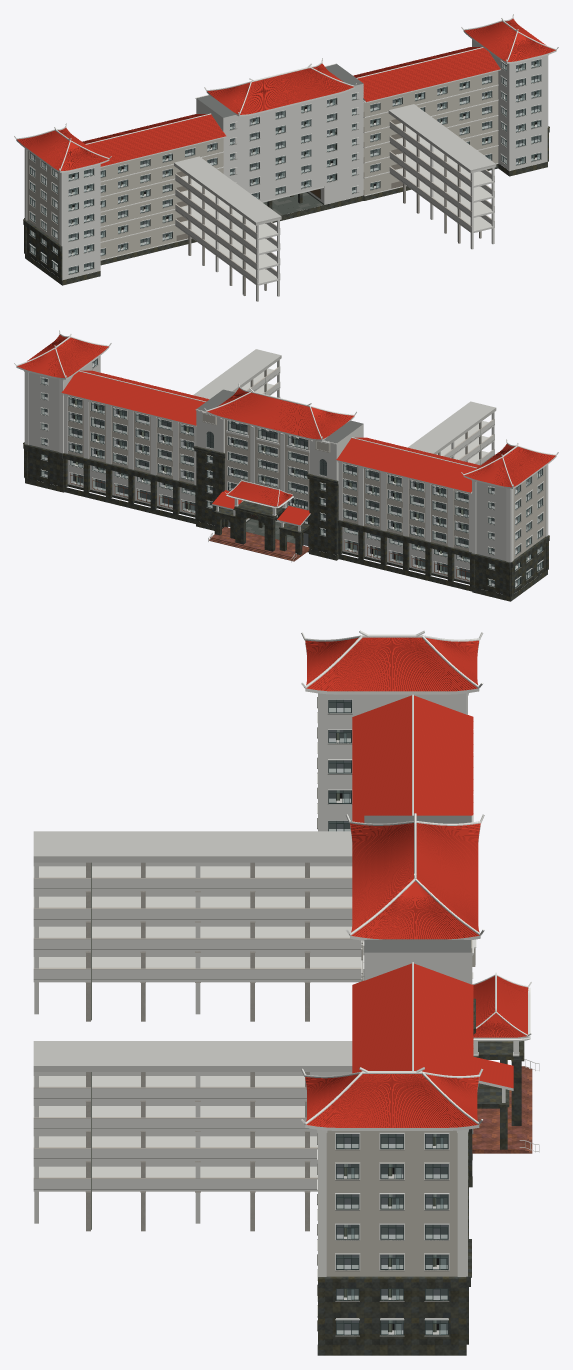
The model's file is yihao.glb.
3 views of the same model, one above another, from view 1: azimuth 30°, elevation 25°; view 2: azimuth 150°, elevation 25°; view 3: azimuth 270°, elevation 25° (orthographic). The views are drawn at different scales.
Parts seen in each view (by area): view 1: yihao.links, yihao.central_rear, yihao.wing_w_rear, yihao.wing_e_rear, yihao.central, yihao.pav_e_rear, yihao.wing_e, yihao.wing_w, yihao.pav_w_end, yihao.link_structure, yihao.pav_w_rear, yihao.tower_e (+5 smaller); view 2: yihao.wing_e, yihao.wing_w, yihao.central, yihao.pav_e, yihao.pav_w, yihao.links, yihao.porch, yihao.tower_w, yihao.pav_w_end, yihao.tower_e, yihao.base, yihao.link_structure (+1 smaller); view 3: yihao.links, yihao.pav_e_end, yihao.central, yihao.wing_w, yihao.link_structure, yihao.wing_e, yihao.pav_w, yihao.pav_e, yihao.porch, yihao.tower_e, yihao.pav_w_rear, yihao.base (+1 smaller).
Boxes of the visible parts, bbox=[...] form: yihao.links: bbox=[174, 104, 496, 301]; yihao.central_rear: bbox=[242, 92, 344, 204]; yihao.wing_w_rear: bbox=[100, 138, 223, 260]; yihao.wing_e_rear: bbox=[363, 71, 498, 196]; yihao.central: bbox=[204, 58, 356, 209]; yihao.pav_e_rear: bbox=[498, 55, 547, 170]; yihao.wing_e: bbox=[353, 47, 500, 102]; yihao.wing_w: bbox=[82, 113, 226, 167]; yihao.pav_w_end: bbox=[23, 148, 62, 280]; yihao.link_structure: bbox=[175, 121, 494, 295]; yihao.pav_w_rear: bbox=[62, 164, 100, 279]; yihao.tower_e: bbox=[325, 63, 363, 199]; yihao.wing_e: bbox=[61, 370, 209, 519]; yihao.wing_w: bbox=[336, 437, 479, 586]; yihao.central: bbox=[204, 383, 356, 546]; yihao.pav_e: bbox=[14, 330, 111, 487]; yihao.pav_w: bbox=[461, 439, 558, 596]; yihao.links: bbox=[193, 349, 496, 465]; yihao.porch: bbox=[208, 479, 310, 562]; yihao.tower_w: bbox=[306, 420, 363, 555]; yihao.pav_w_end: bbox=[510, 464, 549, 596]; yihao.tower_e: bbox=[193, 389, 235, 527]; yihao.base: bbox=[25, 478, 547, 601]; yihao.link_structure: bbox=[246, 366, 494, 464]; yihao.links: bbox=[33, 831, 362, 1223]; yihao.pav_e_end: bbox=[317, 1129, 467, 1345]; yihao.central: bbox=[346, 813, 484, 940]; yihao.wing_w: bbox=[352, 694, 473, 822]; yihao.link_structure: bbox=[33, 862, 361, 1231]; yihao.wing_e: bbox=[352, 962, 473, 1238]; yihao.pav_w: bbox=[301, 630, 483, 714]; yihao.pav_e: bbox=[301, 1067, 483, 1344]; yihao.porch: bbox=[472, 972, 539, 1153]; yihao.tower_e: bbox=[364, 939, 476, 1176]; yihao.pav_w_rear: bbox=[318, 693, 362, 831]; yihao.base: bbox=[317, 1154, 472, 1355].
Bounding box in the file's own units: 117 × 30.87 × 51.4.
Materials: 30 (3 with a texture image).
